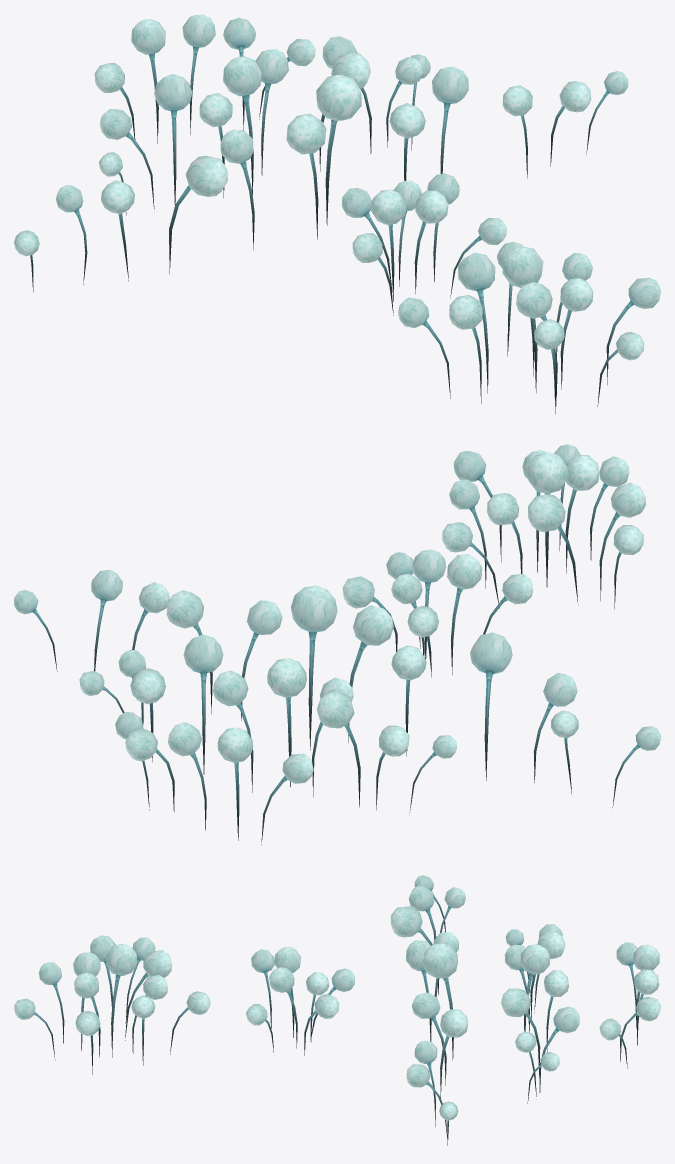
The model's file is deep_bulbs.glb.
The picture shows the model from 3 angles, top to bottom: view 1: azimuth 30°, elevation 25°; view 2: azimuth 150°, elevation 25°; view 3: azimuth 270°, elevation 25°; orthographic projection. The views are drawn at different scales.
Parts seen in each view (by area): view 1: deeptwistybridges_plant_bulb_01_cluster_c_LOD0, deeptwistybridges_plant_bulb_01_cluster_e_LOD0, deeptwistybridges_plant_bulb_01_cluster_b_LOD0, deeptwistybridges_plant_bulb_01_cluster_d_LOD0, deeptwistybridges_plant_bulb_01_cluster_a_LOD0; view 2: deeptwistybridges_plant_bulb_01_cluster_c_LOD0, deeptwistybridges_plant_bulb_01_cluster_e_LOD0, deeptwistybridges_plant_bulb_01_cluster_b_LOD0, deeptwistybridges_plant_bulb_01_cluster_d_LOD0, deeptwistybridges_plant_bulb_01_cluster_a_LOD0; view 3: deeptwistybridges_plant_bulb_01_cluster_c_LOD0, deeptwistybridges_plant_bulb_01_cluster_e_LOD0, deeptwistybridges_plant_bulb_01_cluster_b_LOD0, deeptwistybridges_plant_bulb_01_cluster_d_LOD0, deeptwistybridges_plant_bulb_01_cluster_a_LOD0.
Boxes of the visible parts, x1,y1,x2,y2 form: deeptwistybridges_plant_bulb_01_cluster_c_LOD0: [14, 66, 628, 292]; deeptwistybridges_plant_bulb_01_cluster_e_LOD0: [398, 241, 660, 413]; deeptwistybridges_plant_bulb_01_cluster_b_LOD0: [99, 36, 430, 215]; deeptwistybridges_plant_bulb_01_cluster_d_LOD0: [341, 173, 506, 315]; deeptwistybridges_plant_bulb_01_cluster_a_LOD0: [94, 14, 315, 143]; deeptwistybridges_plant_bulb_01_cluster_c_LOD0: [14, 569, 660, 807]; deeptwistybridges_plant_bulb_01_cluster_e_LOD0: [442, 444, 645, 608]; deeptwistybridges_plant_bulb_01_cluster_b_LOD0: [79, 634, 456, 813]; deeptwistybridges_plant_bulb_01_cluster_d_LOD0: [342, 549, 533, 677]; deeptwistybridges_plant_bulb_01_cluster_a_LOD0: [115, 712, 313, 844]; deeptwistybridges_plant_bulb_01_cluster_c_LOD0: [390, 875, 468, 1145]; deeptwistybridges_plant_bulb_01_cluster_e_LOD0: [14, 935, 210, 1074]; deeptwistybridges_plant_bulb_01_cluster_b_LOD0: [501, 924, 579, 1103]; deeptwistybridges_plant_bulb_01_cluster_d_LOD0: [246, 947, 354, 1055]; deeptwistybridges_plant_bulb_01_cluster_a_LOD0: [599, 942, 660, 1068].
Size of the model in its own units: 0.0421 by 0.0101 by 0.0491.
1 material, 1 textured.
